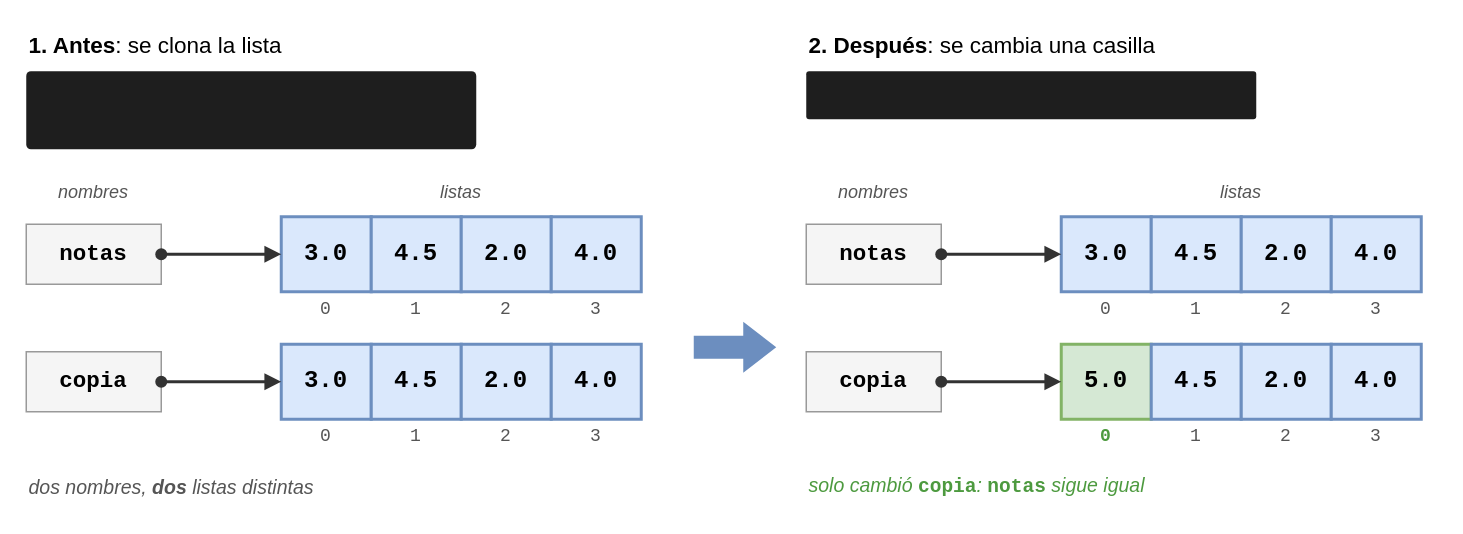
Some shapes in this 1463 by 534 pixel diagram are drawn without their labels. Each missing label, with the centre of its shape:
copia = notas[:] # o bien: copia = list(notas): point 251,109
copia[0] = 5.0: point 1031,94
